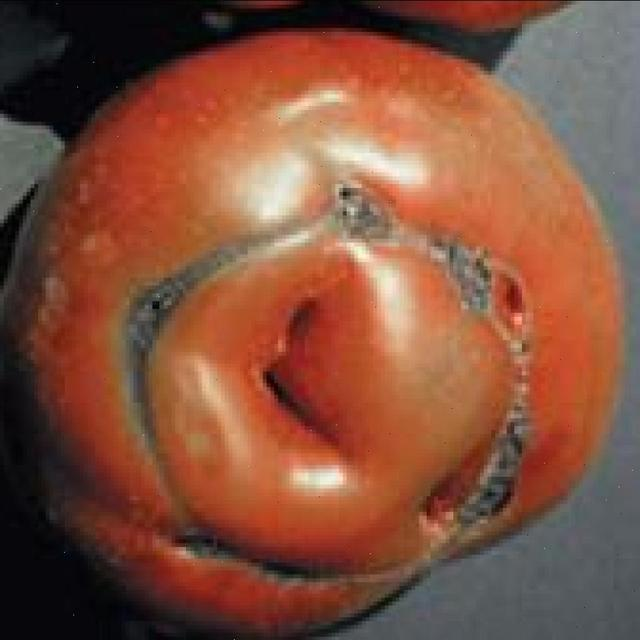Cracking Fruit: (107, 235, 315, 292)
